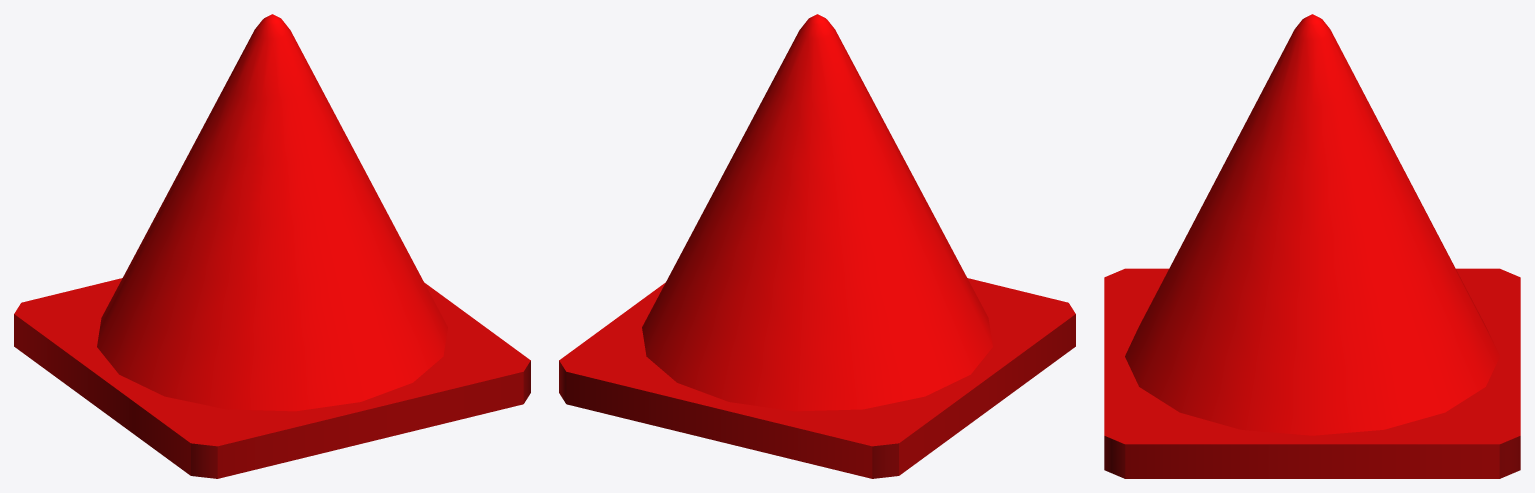
The model's file is CPI_D_FBX_13_Gashi_A.fbx.
3 renders of one model, left to right at view 1: azimuth 30°, elevation 25°; view 2: azimuth 150°, elevation 25°; view 3: azimuth 270°, elevation 25°, orthographic. The views are drawn at different scales.
Parts seen in each view (by area): view 1: CPI_D_FBX_13_Gashi_A; view 2: CPI_D_FBX_13_Gashi_A; view 3: CPI_D_FBX_13_Gashi_A.
Part boxes in pixels (box(x1,y1,x2,y2)): CPI_D_FBX_13_Gashi_A: box(14, 14, 530, 478); CPI_D_FBX_13_Gashi_A: box(559, 14, 1075, 478); CPI_D_FBX_13_Gashi_A: box(1104, 14, 1520, 478).
Bounding box in the file's own units: 1 × 1 × 1.
